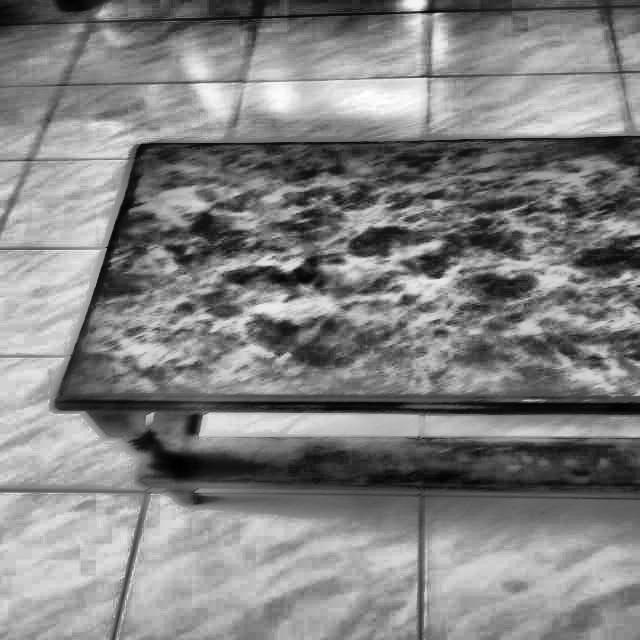mesa: (40, 136, 640, 507)
